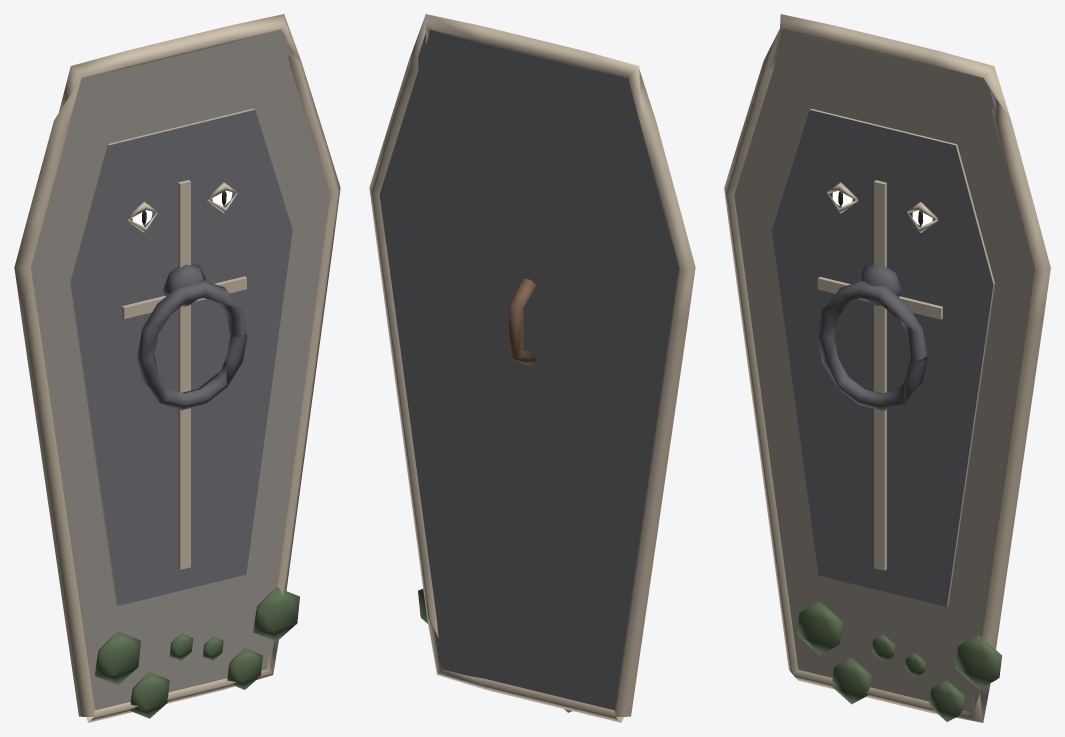
The model's file is shield-grave-door.glb.
The picture shows the model from 3 angles, left to right: view 1: azimuth 30°, elevation 25°; view 2: azimuth 150°, elevation 25°; view 3: azimuth 330°, elevation 25°; orthographic projection.
Visible parts, largest first — view 1: shield-grave-door; view 2: shield-grave-door; view 3: shield-grave-door.
Part boxes in pixels (x1,y1,x2,y2): shield-grave-door: (14, 14, 340, 722); shield-grave-door: (369, 14, 695, 722); shield-grave-door: (724, 14, 1050, 722).
Bounding box in the file's own units: 1.01 × 1.98 × 0.2102.
